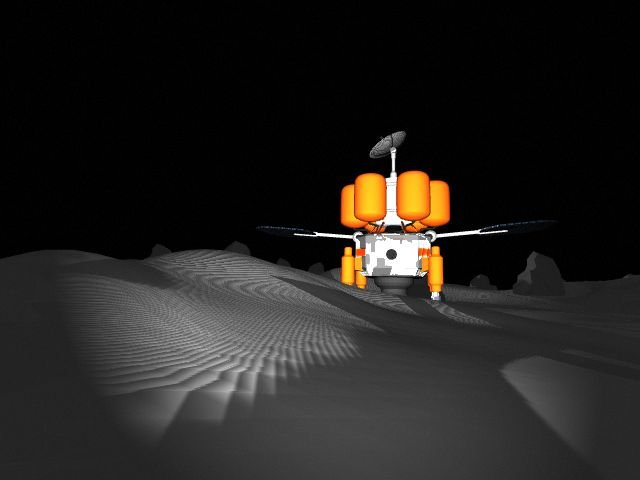homebase: (243, 129, 555, 307)
